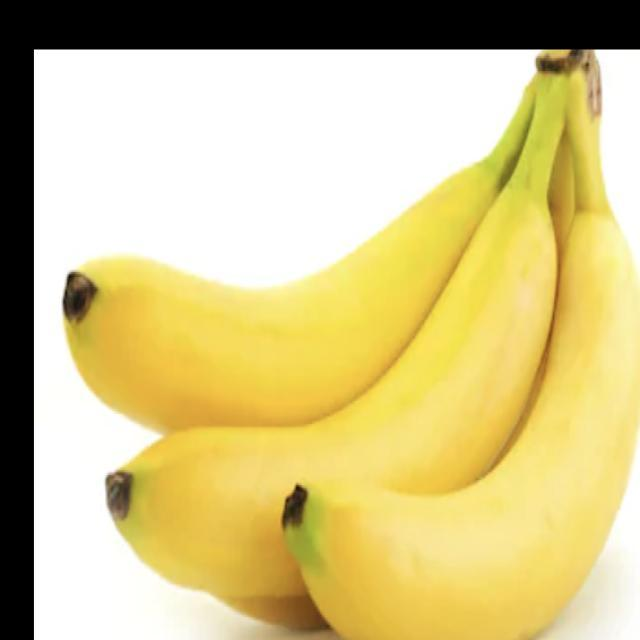Banana: (56, 62, 640, 640)
